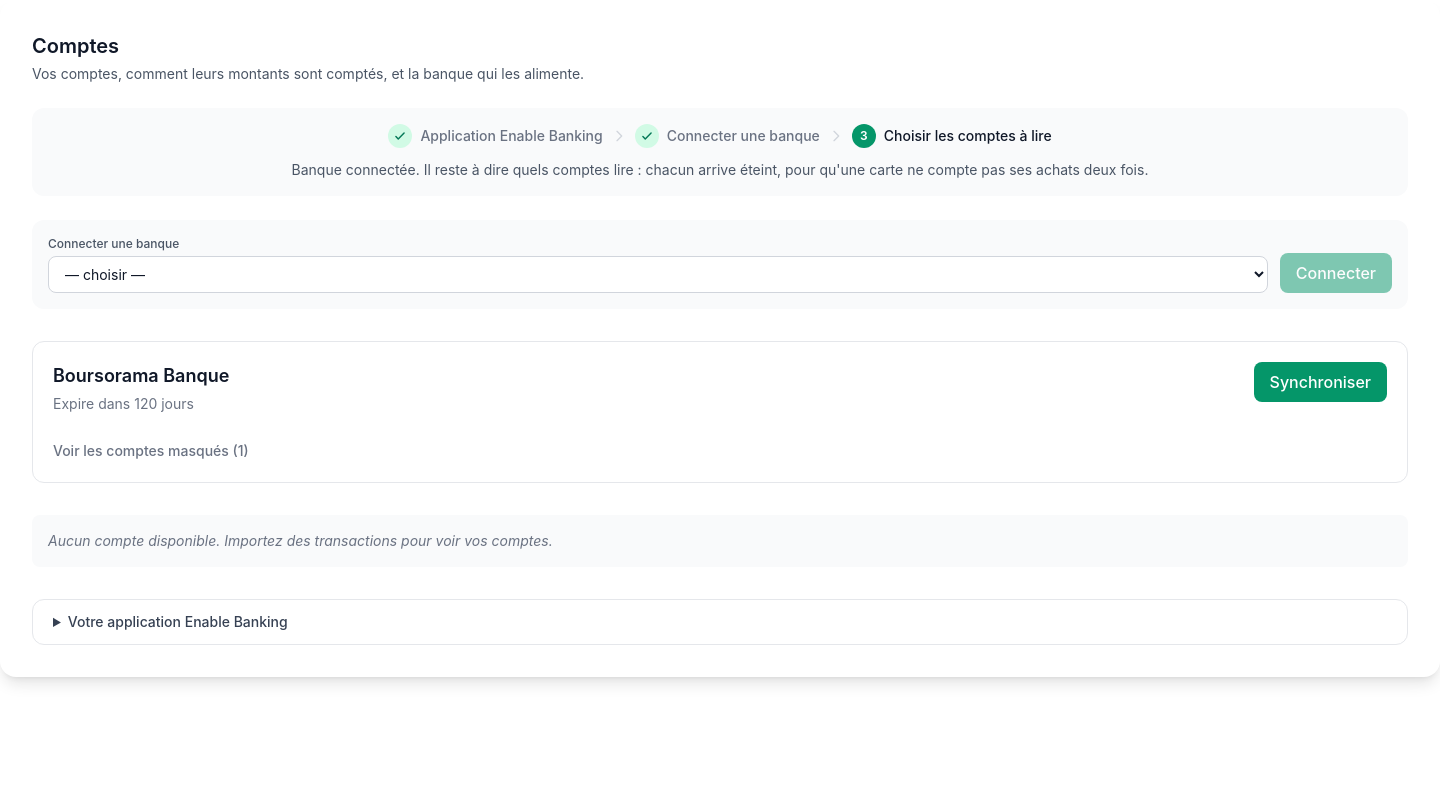
AccountsSettingsPage — grouped under a bank connection › cannot switch on a card account, once revealed
Click the button with test id "hidden-accounts-toggle" at x=151, y=451, box 53,441 -> 249,461
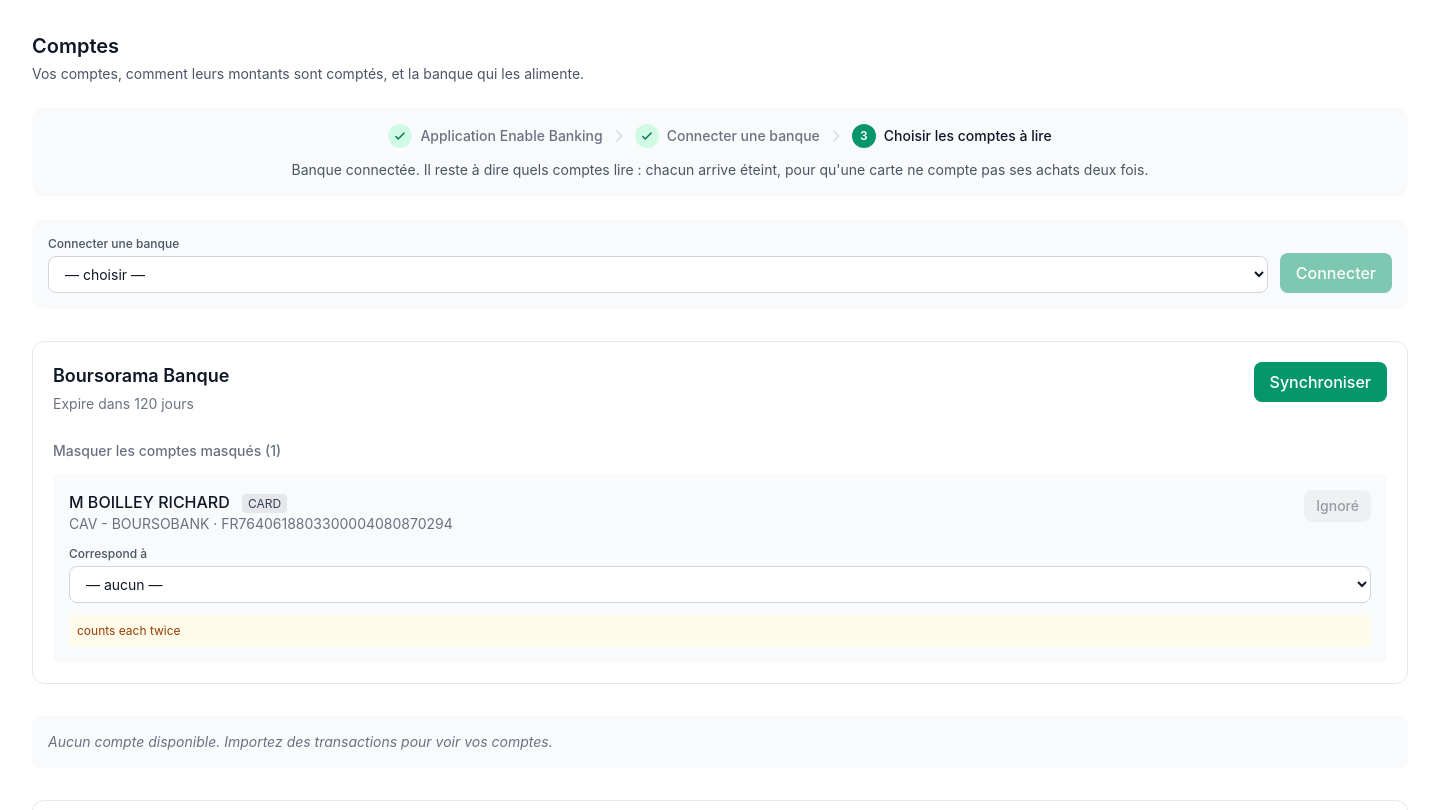
Check: the button with test id "ingest-toggle" is disabled, box 1304,490 -> 1371,522
Check: the text with test id "account-warning" reads "counts each twice", box 77,623 -> 181,638
